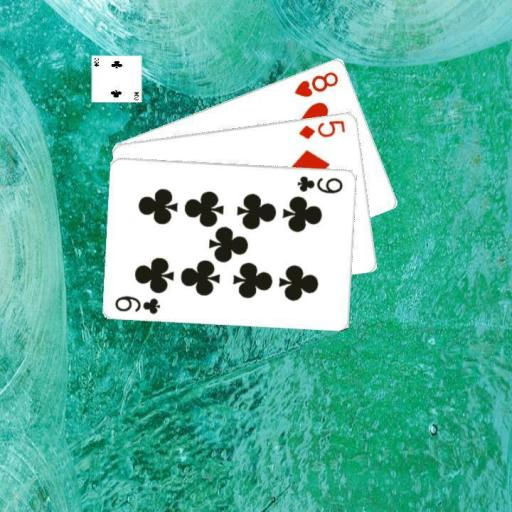card-corner: (291, 67, 340, 99), (296, 116, 347, 140), (294, 172, 345, 195), (112, 292, 162, 315)
